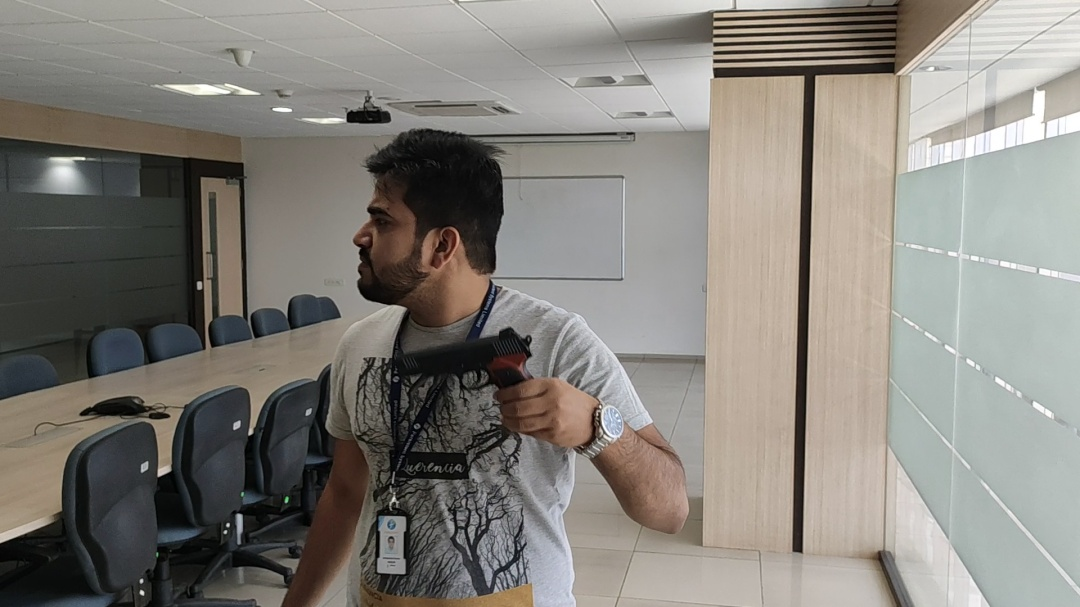gun: (395, 328, 536, 391)
